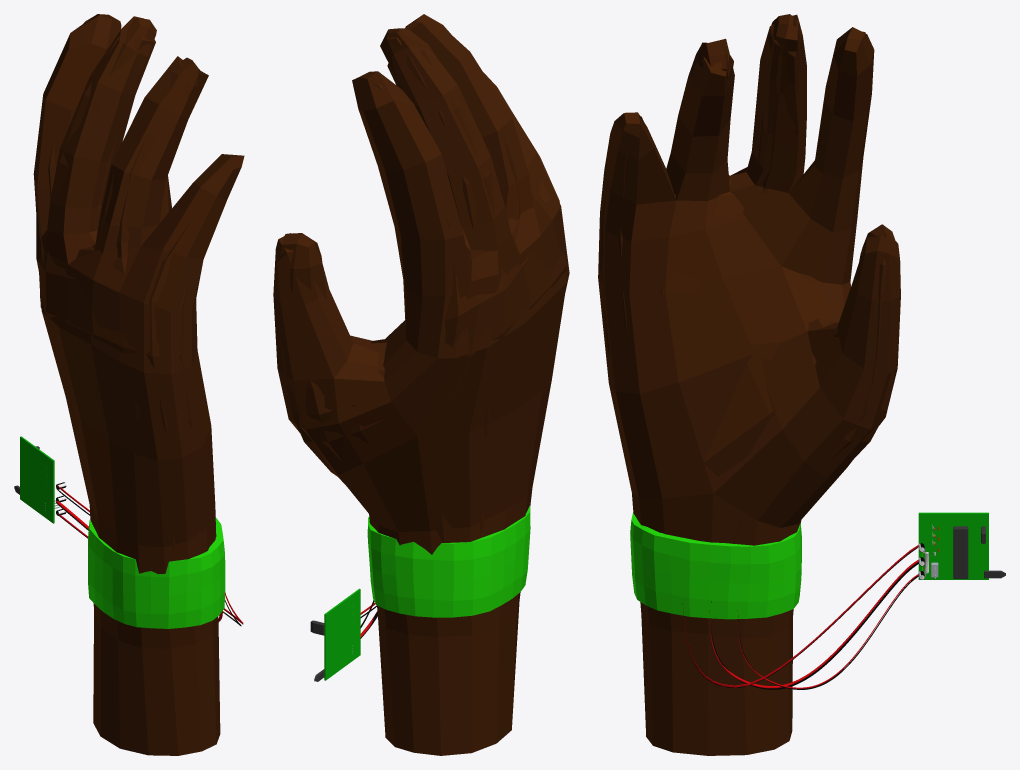
File: handsign.glb
3 views of the same model, side by side, from view 1: azimuth 30°, elevation 25°; view 2: azimuth 150°, elevation 25°; view 3: azimuth 270°, elevation 25° (orthographic). The views are drawn at different scales.
Parts seen in each view (by area): view 1: Retopo_Hand.001, Retopo_Cylinder, Plane.001; view 2: Retopo_Hand.001, Retopo_Cylinder, Plane.001; view 3: Retopo_Hand.001, Retopo_Cylinder, Plane.001, O000001000.058, Cube, O000001000.061.
Part boxes in pixels (bbox=[...]): Retopo_Hand.001: bbox=[33, 14, 244, 755]; Retopo_Cylinder: bbox=[88, 517, 225, 628]; Plane.001: bbox=[20, 436, 54, 523]; Retopo_Hand.001: bbox=[273, 14, 569, 755]; Retopo_Cylinder: bbox=[367, 506, 530, 617]; Plane.001: bbox=[324, 588, 360, 680]; Retopo_Hand.001: bbox=[598, 14, 900, 755]; Retopo_Cylinder: bbox=[630, 512, 801, 619]; Plane.001: bbox=[918, 512, 988, 579]; O000001000.058: bbox=[709, 557, 924, 689]; Cube: bbox=[953, 526, 968, 578]; O000001000.061: bbox=[737, 571, 924, 689].
Size of the model in its own units: 0.7652 by 2.9 by 1.48.
